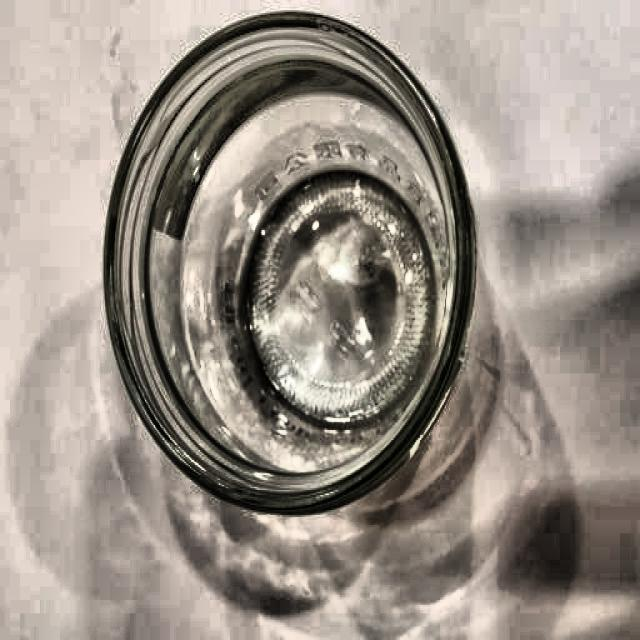glass: (99, 5, 486, 524)
